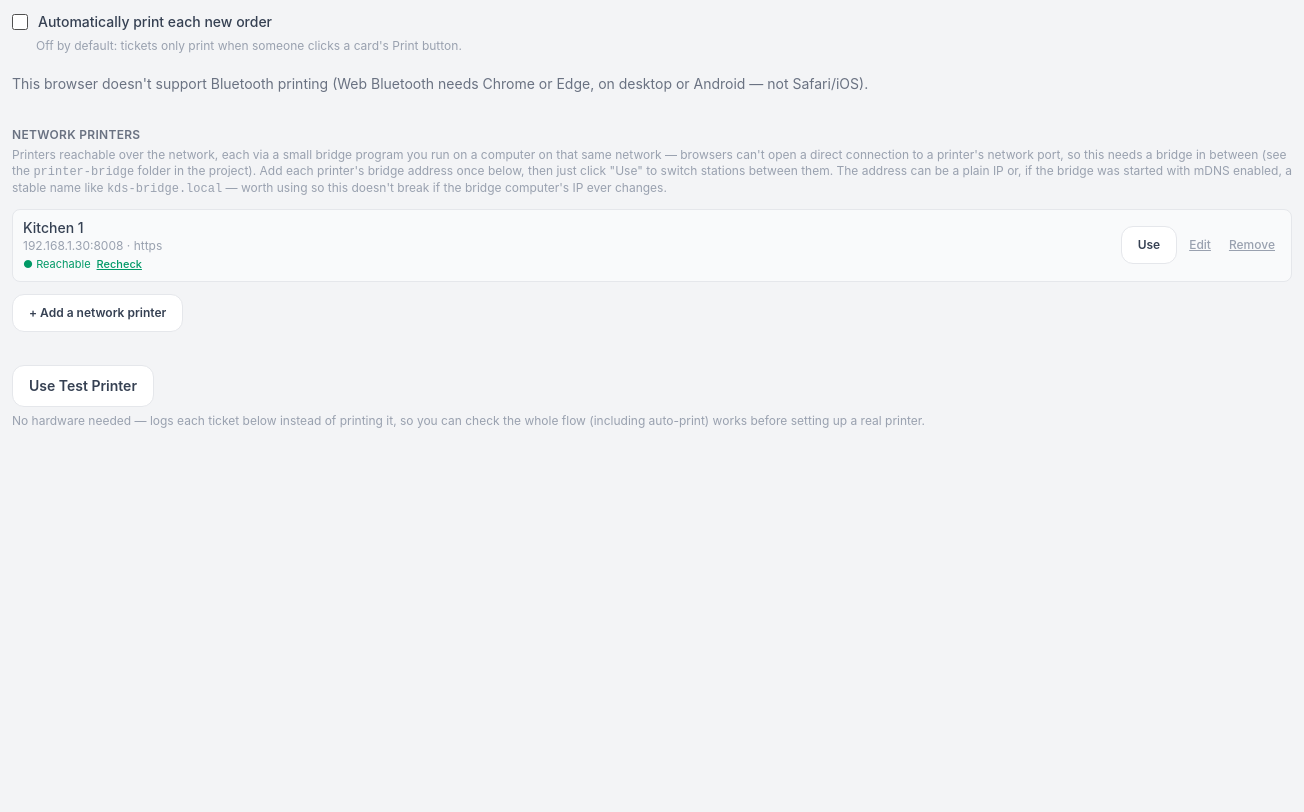
Test: PrinterConfig › Network Printers › edits a saved printer in place
Step 1. Click the button "Edit" → (1200,245), box [1183,237,1217,253]
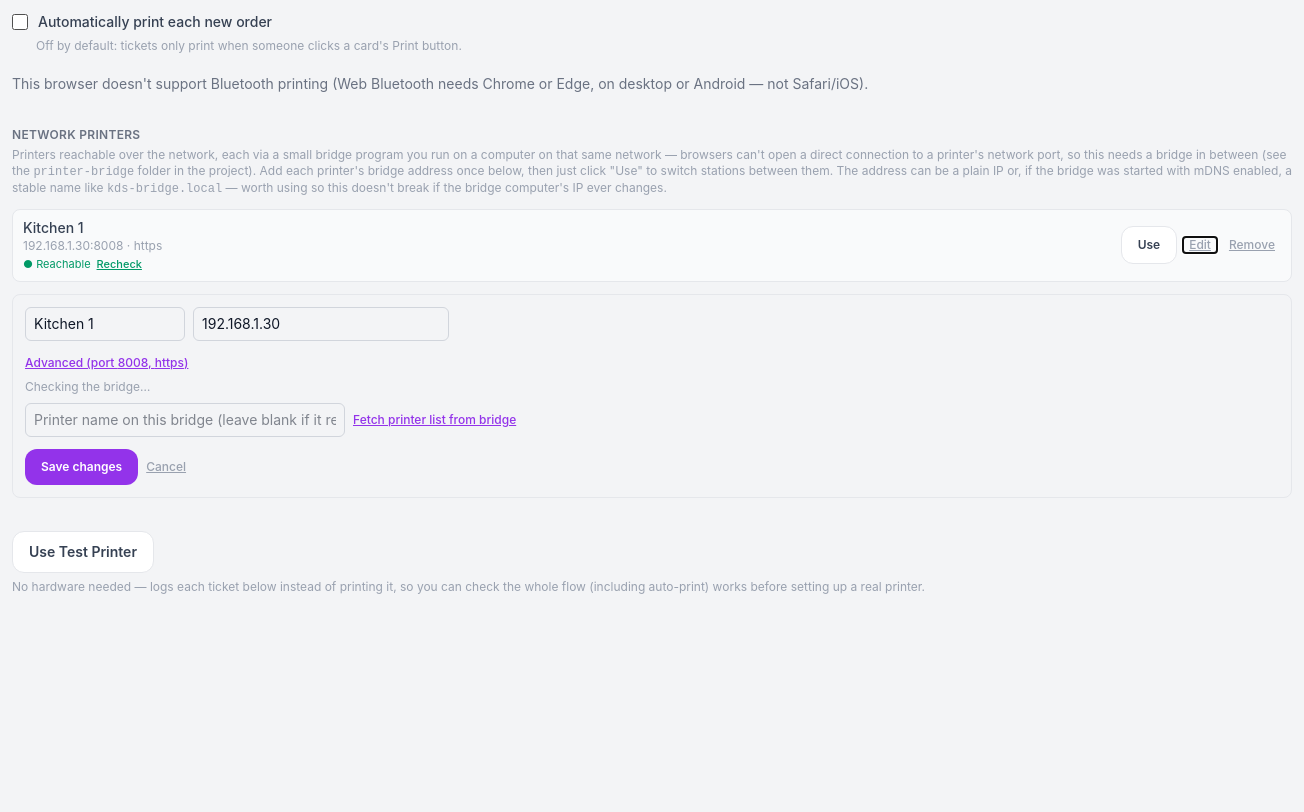
Step 2. Replace the text in the field named "printer bridge ip address" with "192.168.1.99" → (321,324), box [193,306,449,340]
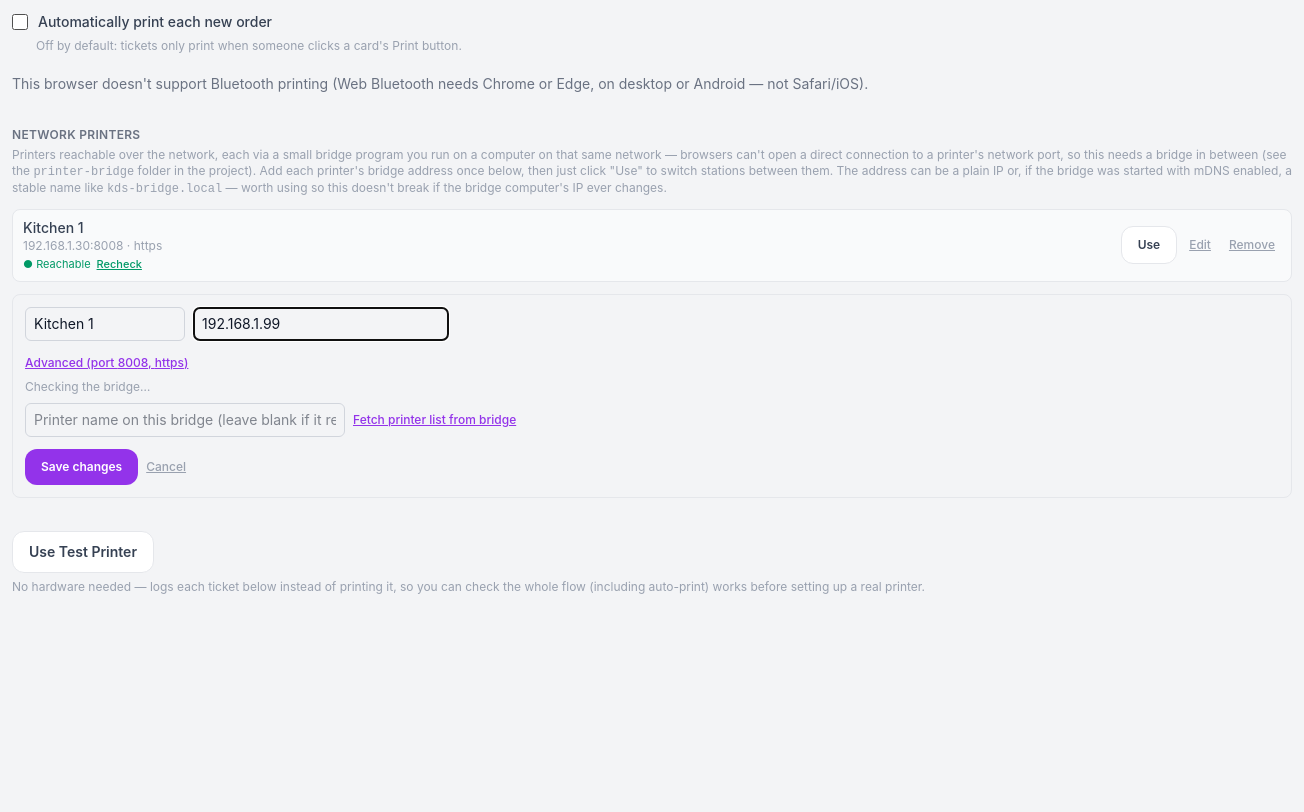
Step 3. Click the button "Save changes" → (82,466), box [25,448,138,484]
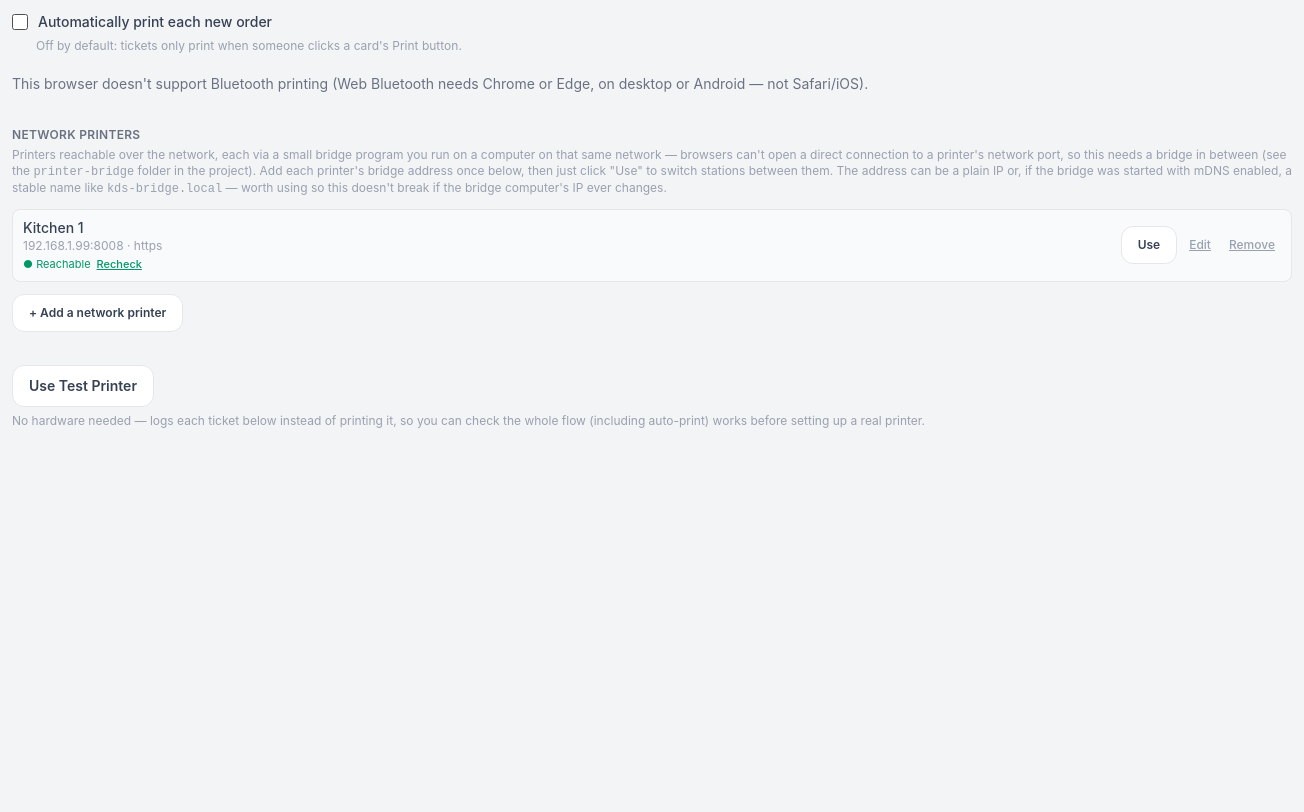
Expected: the text "192.168.1.99:8008 · https" is shown, [23,238,162,254]
